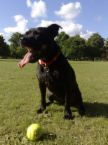tennis ball: (25, 119, 44, 142)
